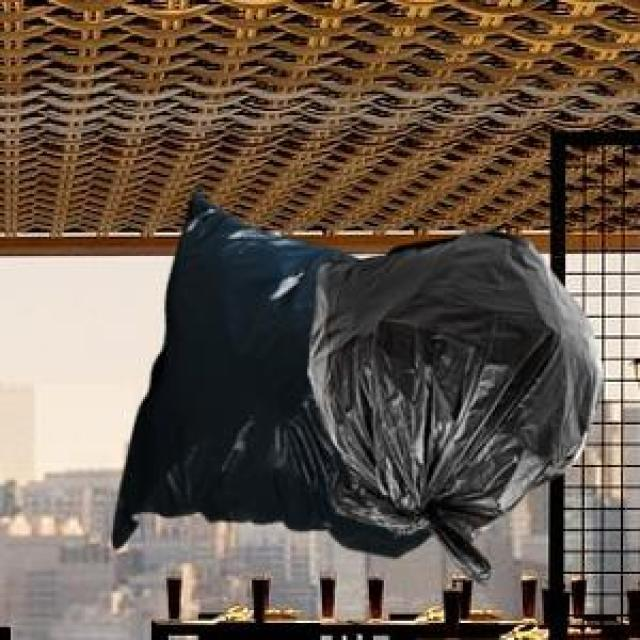Vinyl: (112, 195, 601, 581)
